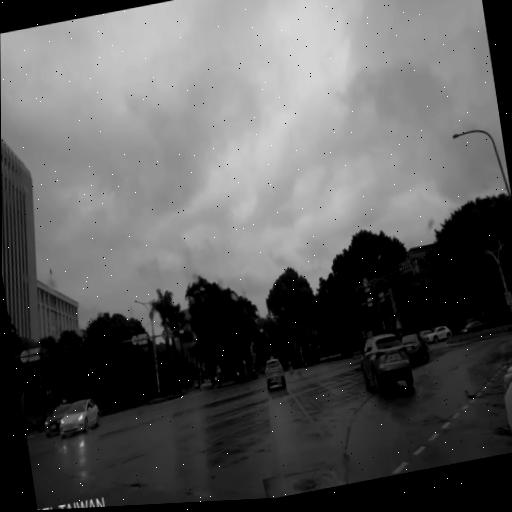Car: (355, 329, 419, 401), (55, 393, 102, 438), (494, 338, 512, 454), (41, 393, 78, 442), (398, 326, 430, 366), (263, 349, 289, 398), (423, 321, 453, 348), (459, 315, 489, 337), (416, 320, 434, 342)
